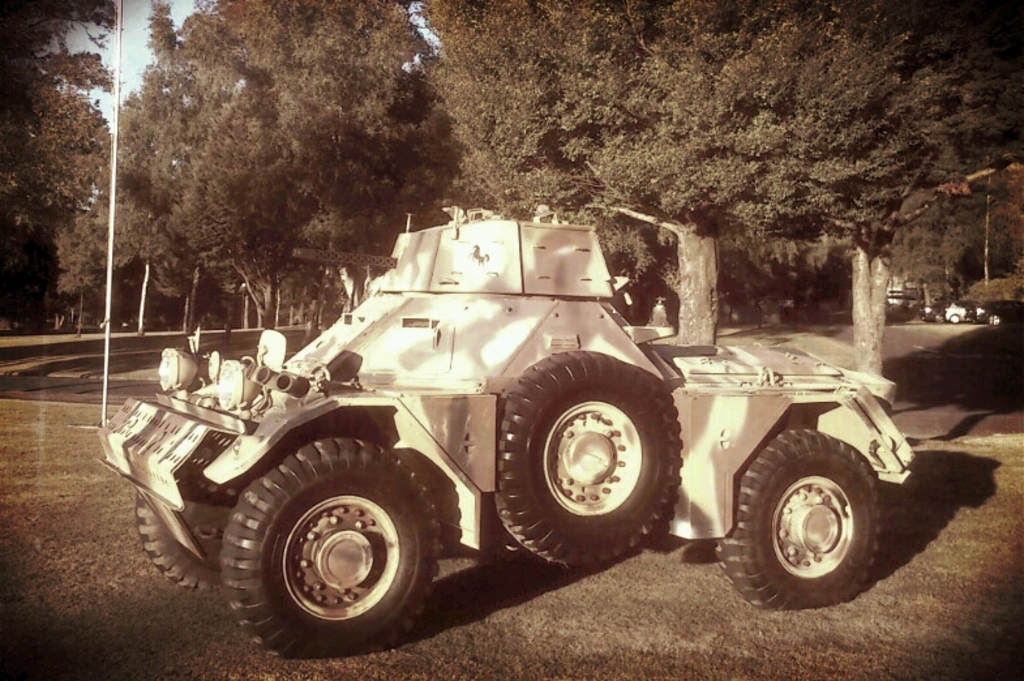Car: (962, 301, 1022, 323)
